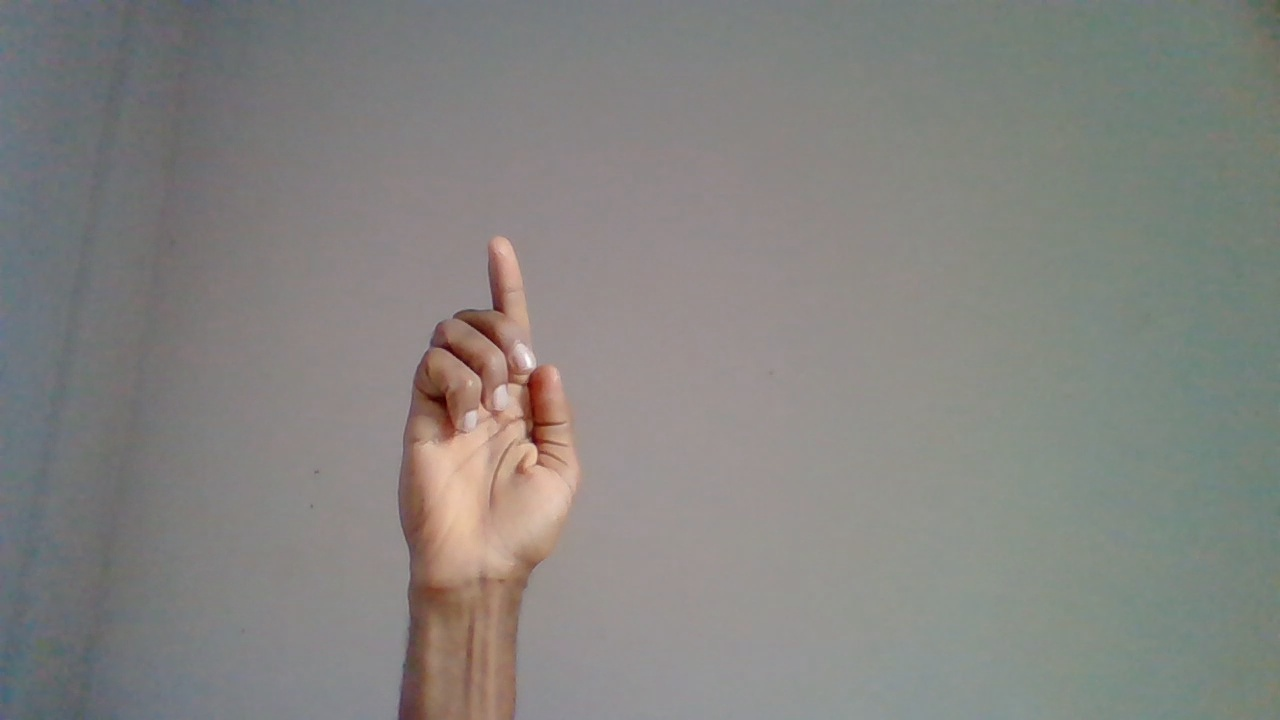qe: (399, 238, 576, 663)
